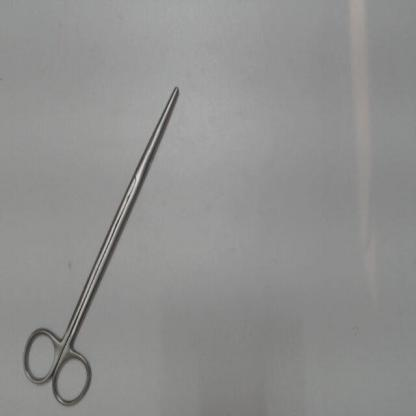9 Metzenbaum Scissors: (18, 82, 185, 415)
